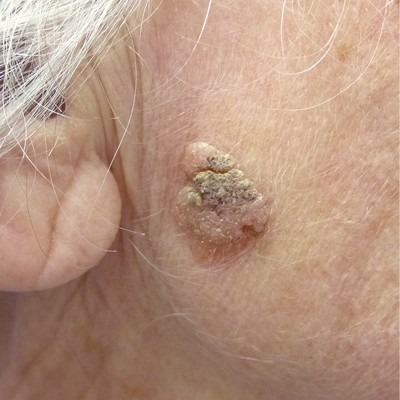Warts: (146, 125, 292, 273)
